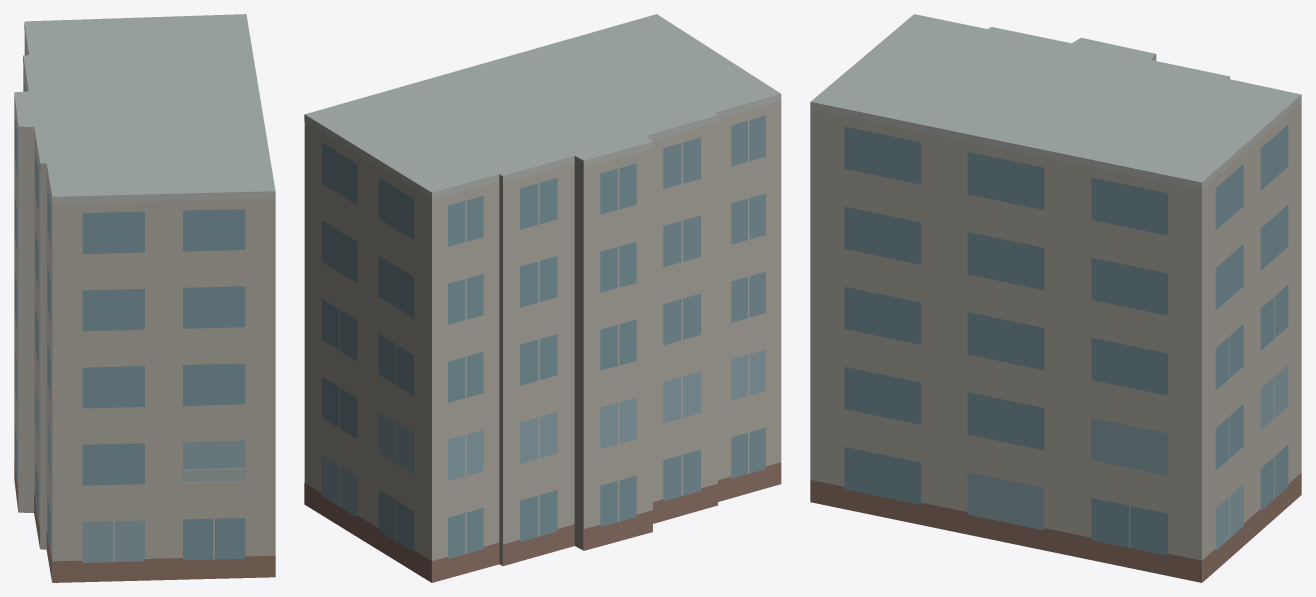
The model's file is survey-upis-33023061.glb.
3 renders of one model, left to right at view 1: azimuth 30°, elevation 25°; view 2: azimuth 150°, elevation 25°; view 3: azimuth 270°, elevation 25°, orthographic. The views are drawn at different scales.
Visible parts, largest first — view 1: survey-upis-33023061.tmp; view 2: survey-upis-33023061.tmp; view 3: survey-upis-33023061.tmp.
Part boxes in pixels (x1=…): survey-upis-33023061.tmp: x1=14, y1=14, x2=275, y2=582; survey-upis-33023061.tmp: x1=304, y1=14, x2=781, y2=582; survey-upis-33023061.tmp: x1=810, y1=14, x2=1301, y2=582.
Size of the model in its own units: 12.01 by 13.3 by 14.8.
